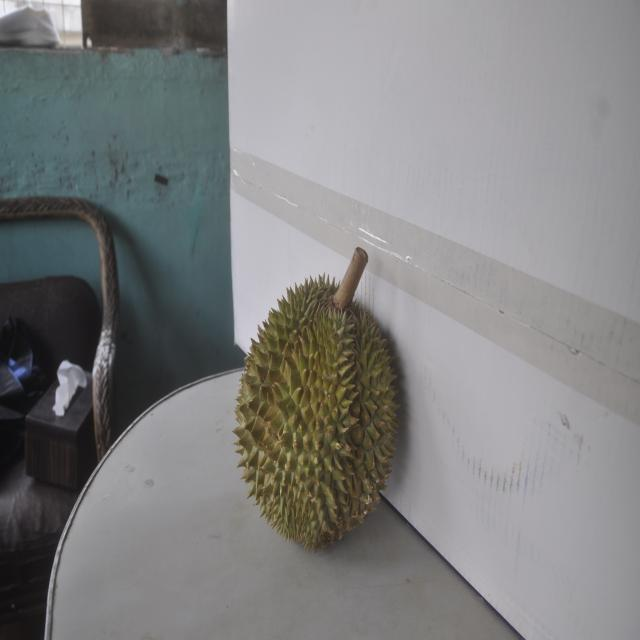mature: (234, 257, 403, 553)
